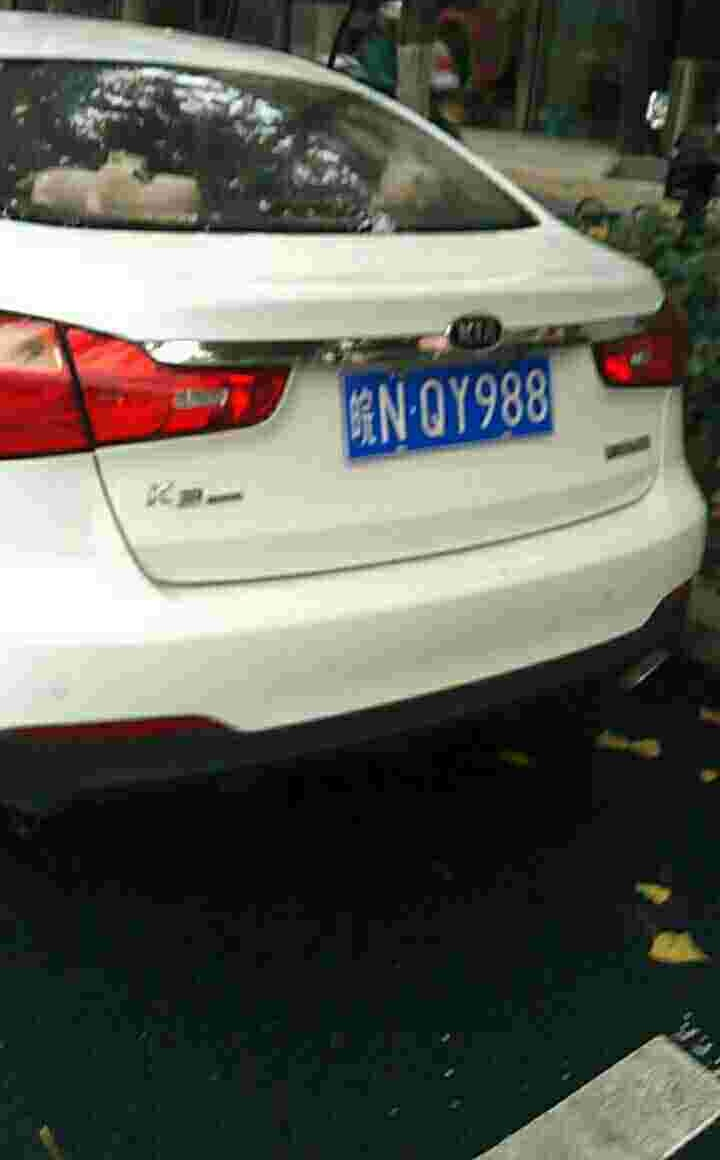plate: (347, 348, 565, 462)
